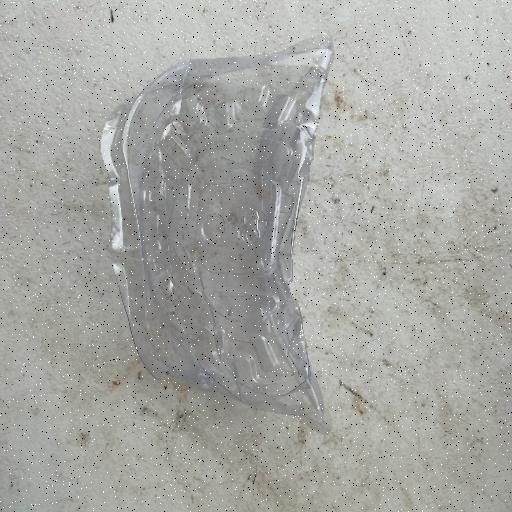Plastic: (97, 32, 339, 434)
